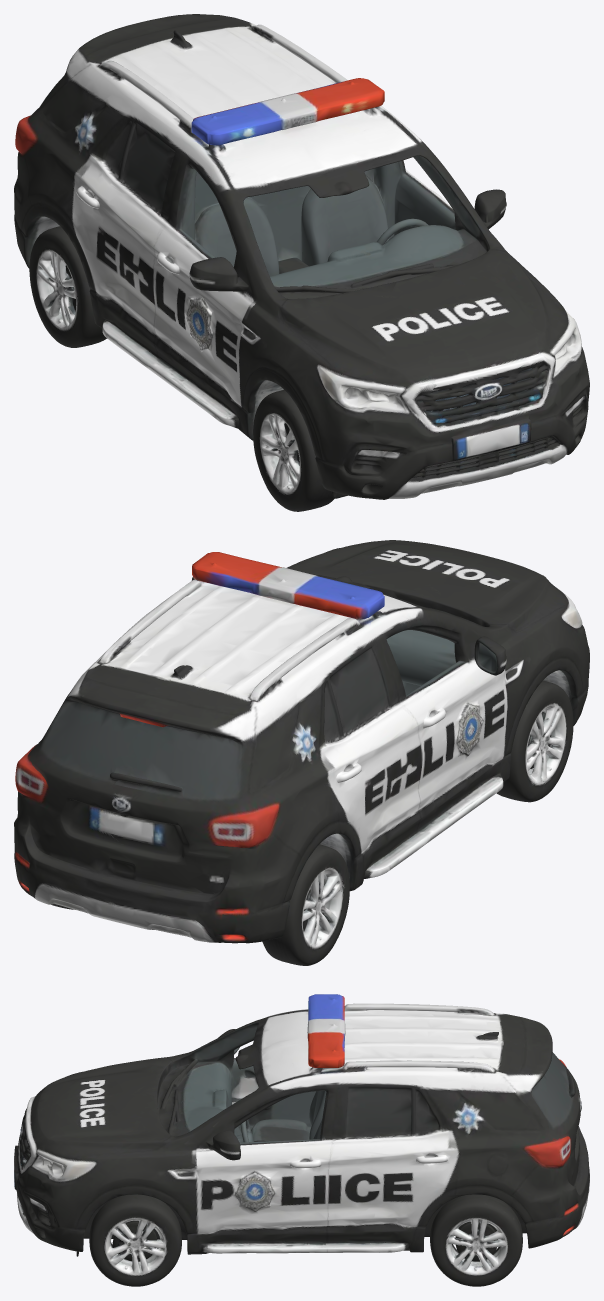
File: 033_interceptor_suv.glb
3 views of the same model, one above another, from view 1: azimuth 30°, elevation 25°; view 2: azimuth 150°, elevation 25°; view 3: azimuth 270°, elevation 25° (orthographic). The views are drawn at different scales.
Parts seen in each view (by area): view 1: geometry_0; view 2: geometry_0; view 3: geometry_0.
Part boxes in pixels (left/top/right/bottom): geometry_0: left=14, top=14, right=589, bottom=511; geometry_0: left=14, top=540, right=589, bottom=965; geometry_0: left=14, top=994, right=589, bottom=1286.
Size of the model in its own units: 2.48 by 2.15 by 5.2.
Materials: 1 (1 with a texture image).
